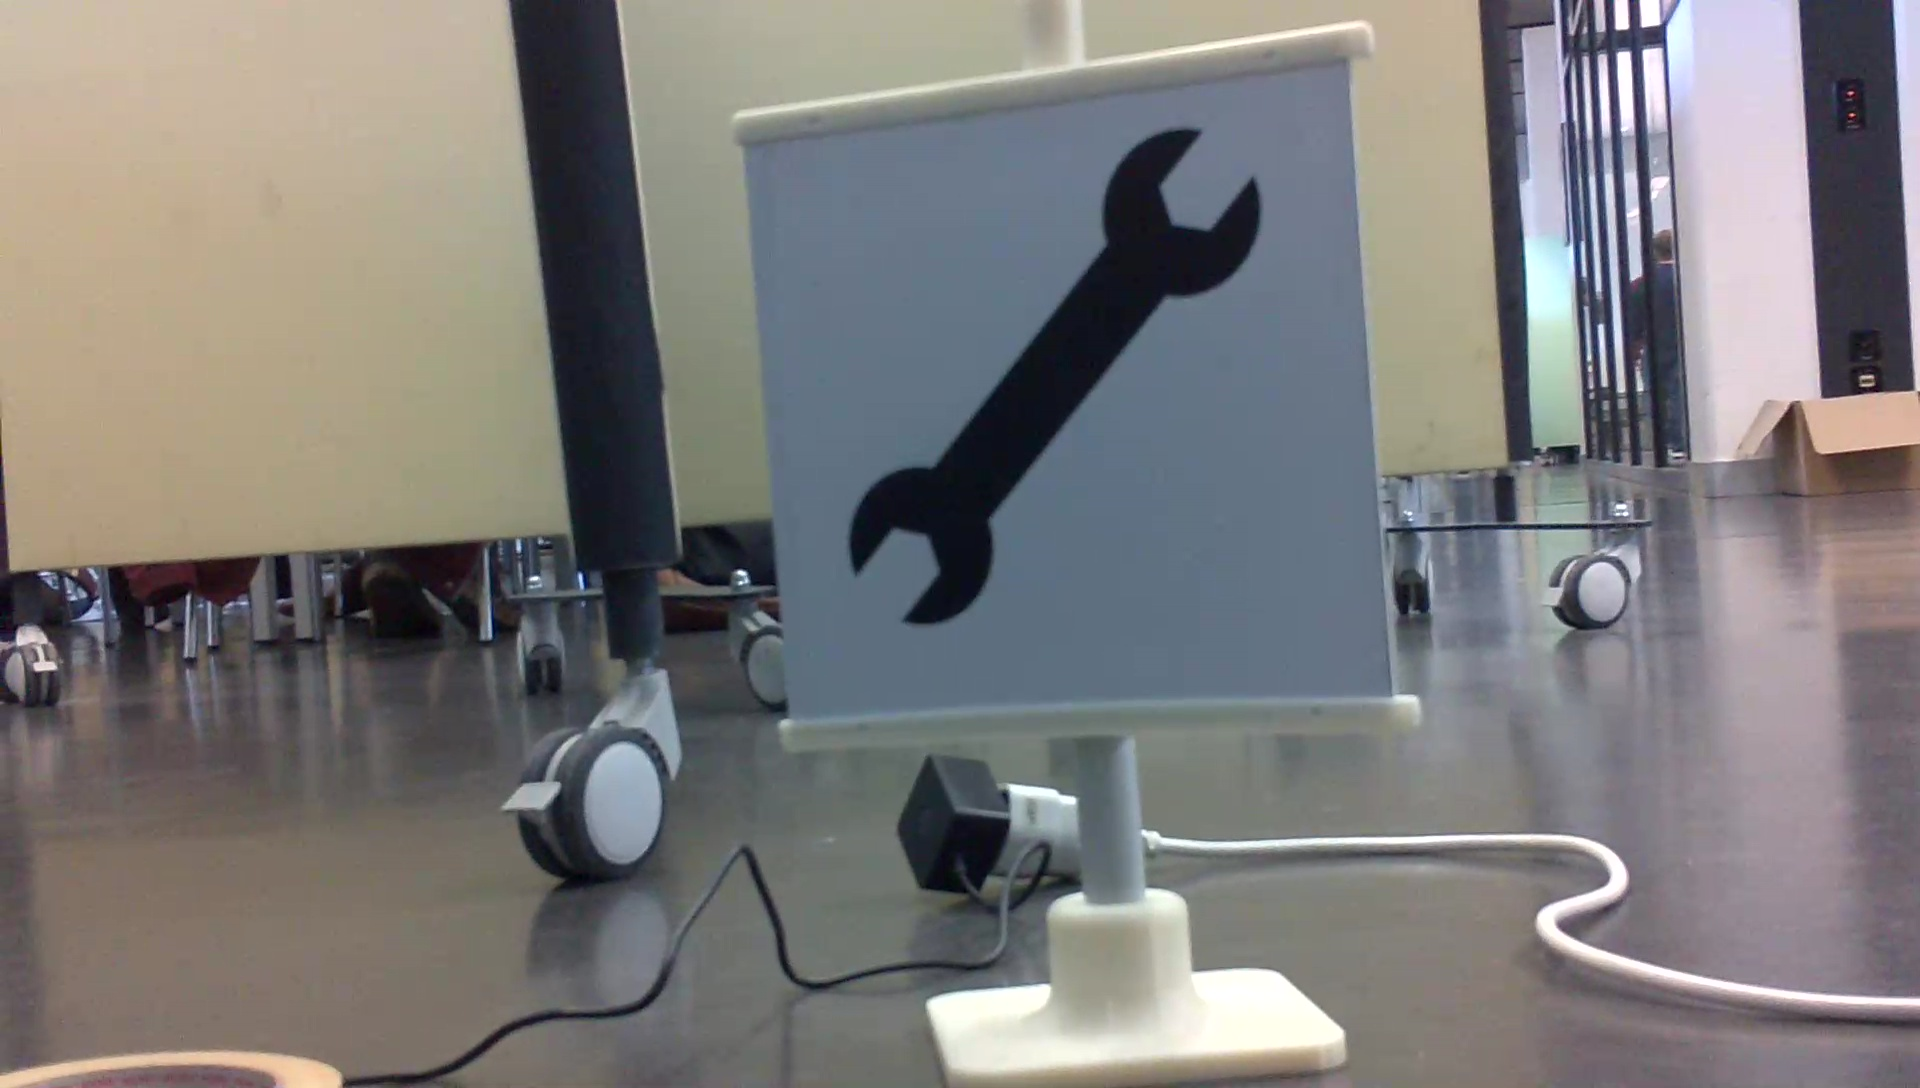wrench: (835, 115, 1276, 638)
